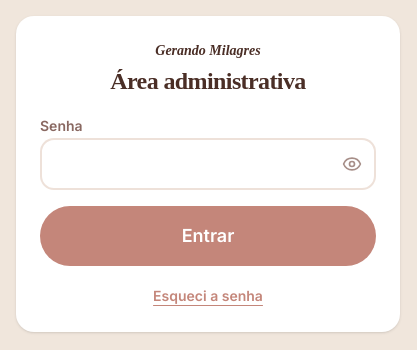
Test: AdminPage › mostra e oculta a senha digitada pelo ícone de olho
This screenshot has width=417, height=350.
In the password field labelled "Senha": (208, 164) [40,138,376,190], type "minha-senha"
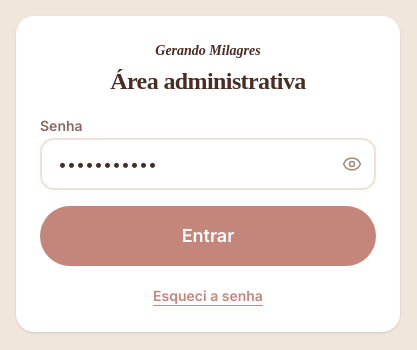
Click the button named "mostrar senha": (352, 164) [328,138,376,190]
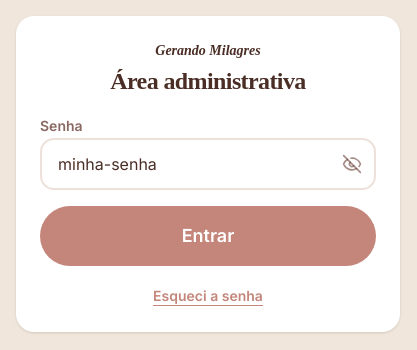
Check: the field labelled "Senha" shows its text, box [40,138,376,190]
Click the button named "ocultar senha": (352, 164) [328,138,376,190]
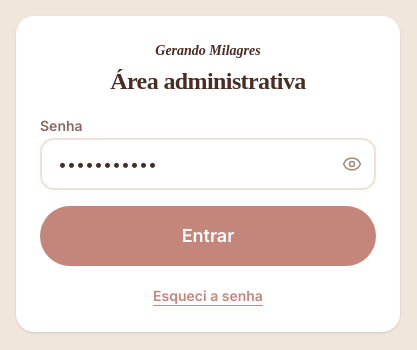
Check: the password field labelled "Senha" hides its text, box [40,138,376,190]
